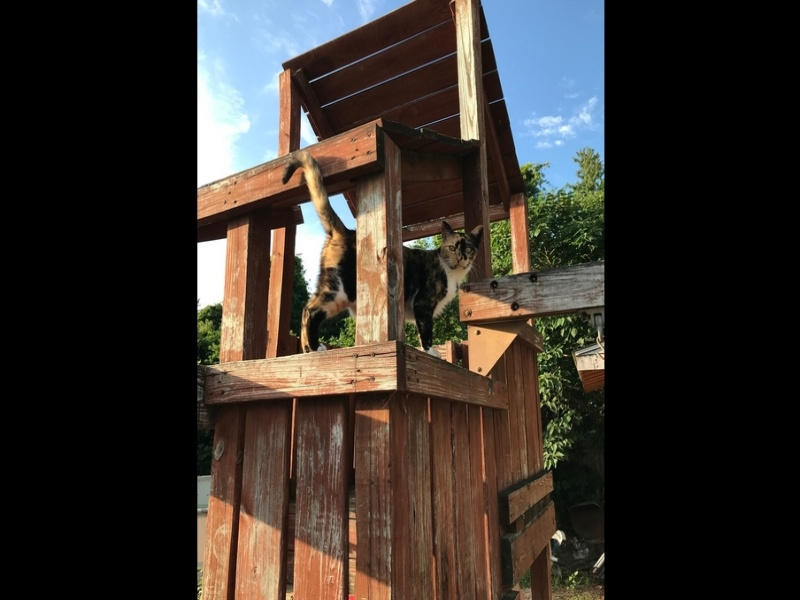cat: (278, 153, 489, 362)
